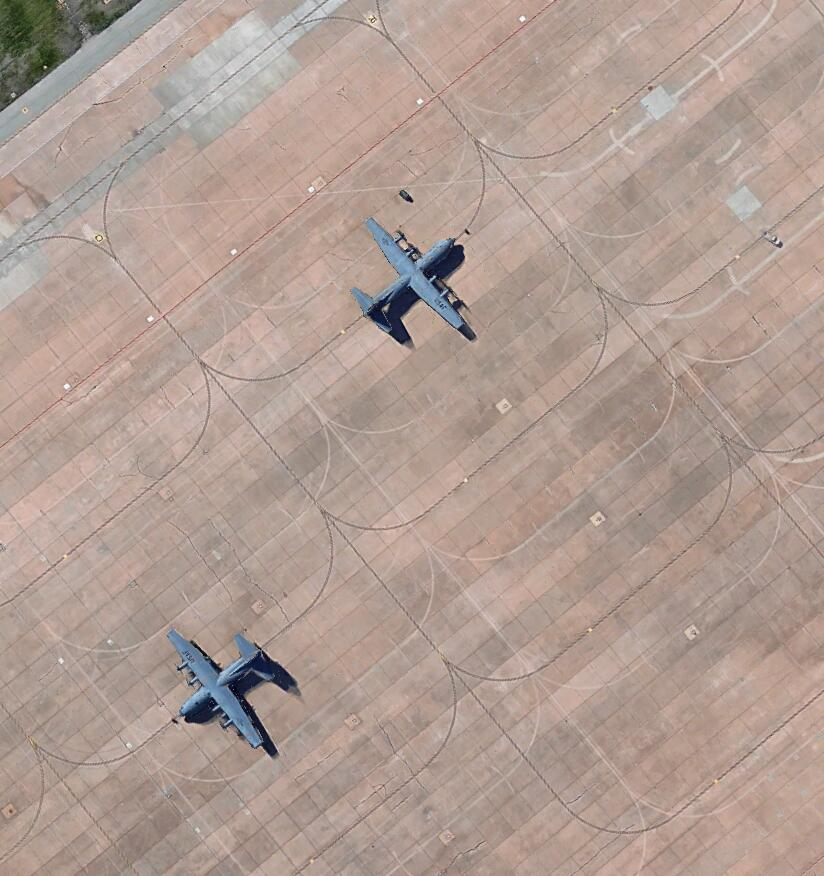A2: (165, 624, 302, 764), (347, 212, 478, 352)
